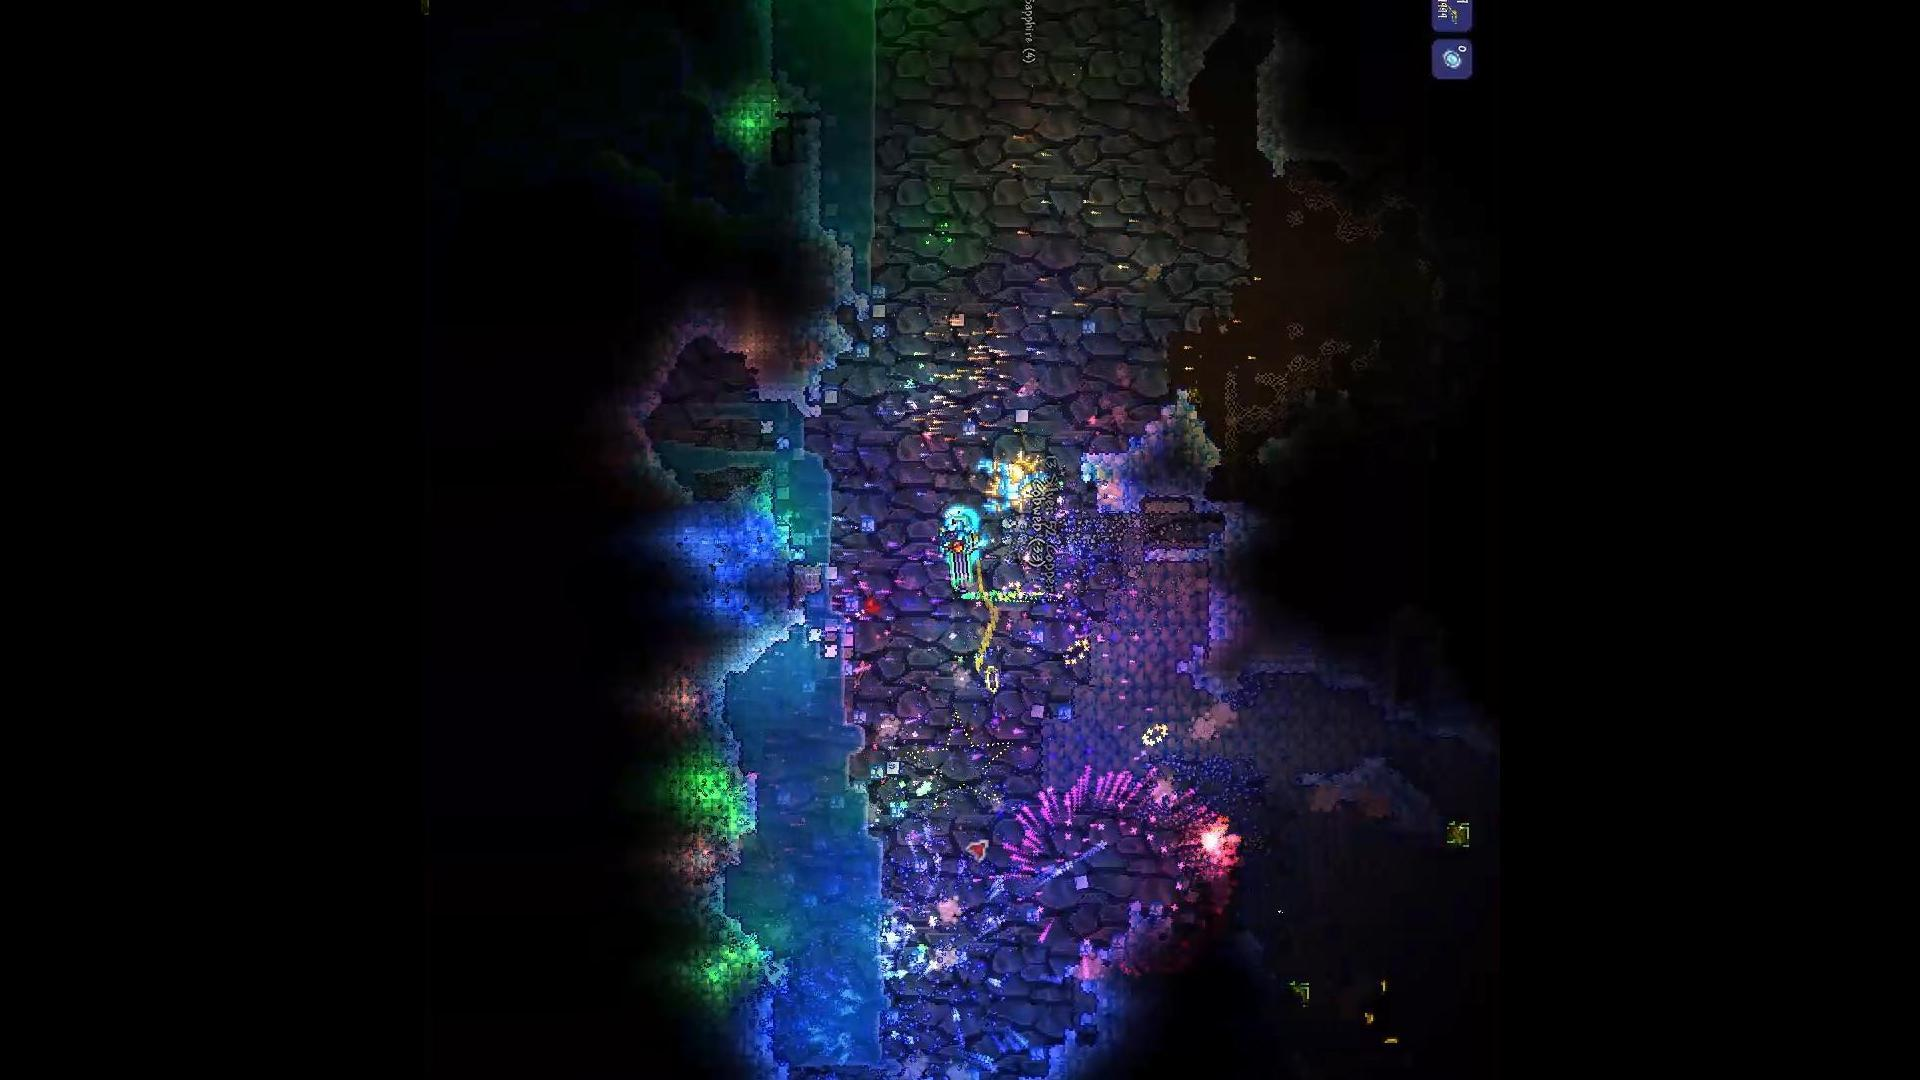mirror: (1437, 46, 1468, 73)
pot: (1283, 977, 1317, 1010), (1445, 818, 1476, 852)
